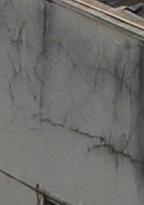fissura: (0, 41, 143, 172)
